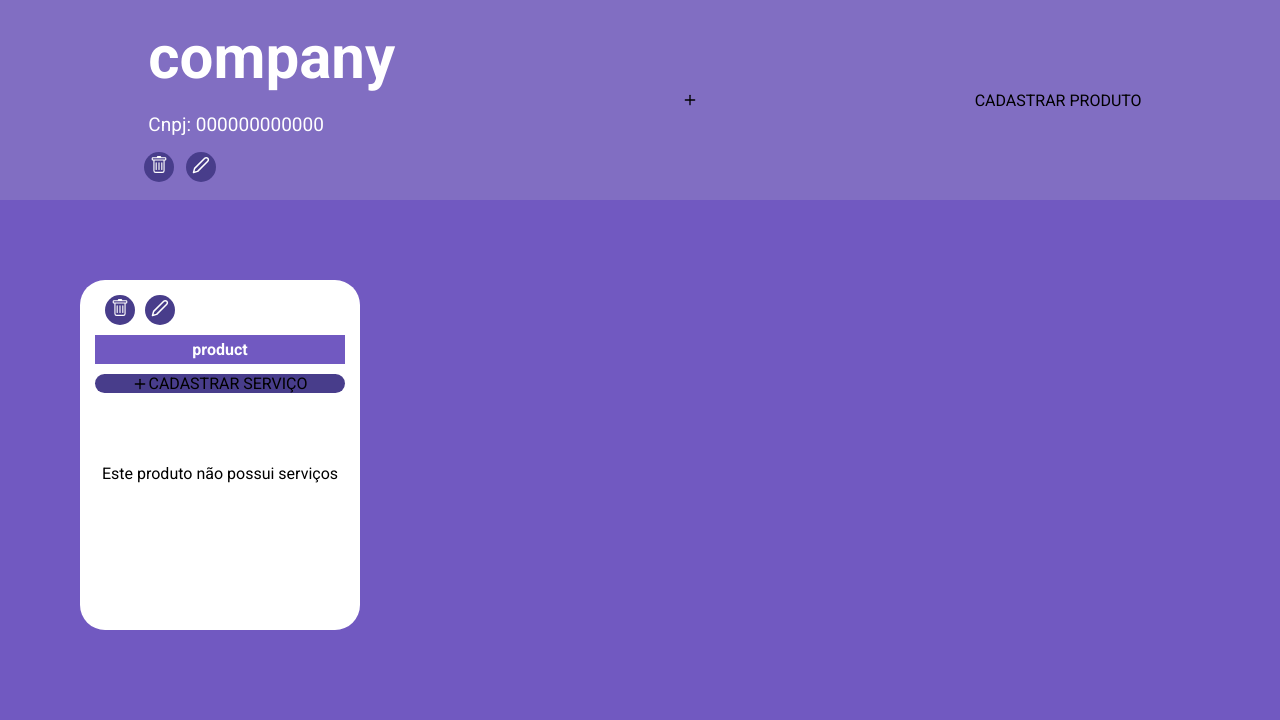
Test: Dashboard › ProductUpdate › should be able to open ProductUpdate
Click the 4th button: (160, 310) top-left (145, 295), bottom-right (175, 325)
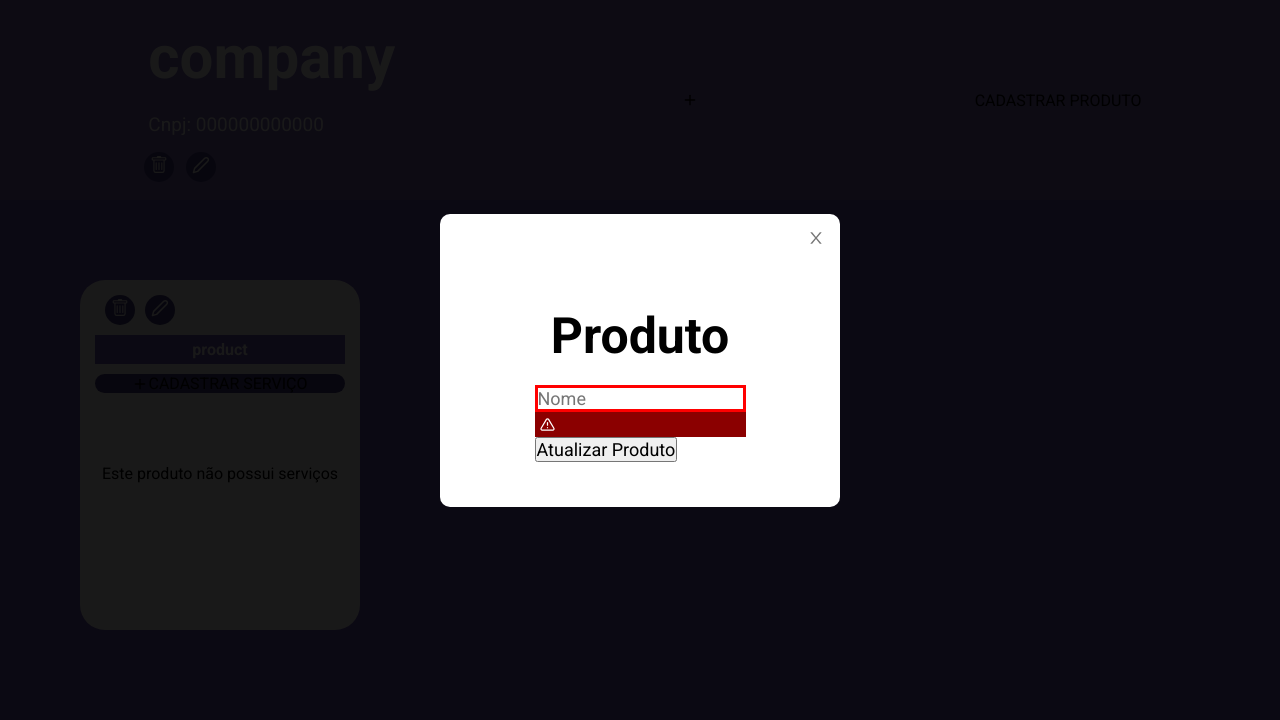
Result: the element showing "Produto Atualizar Produto" is shown
